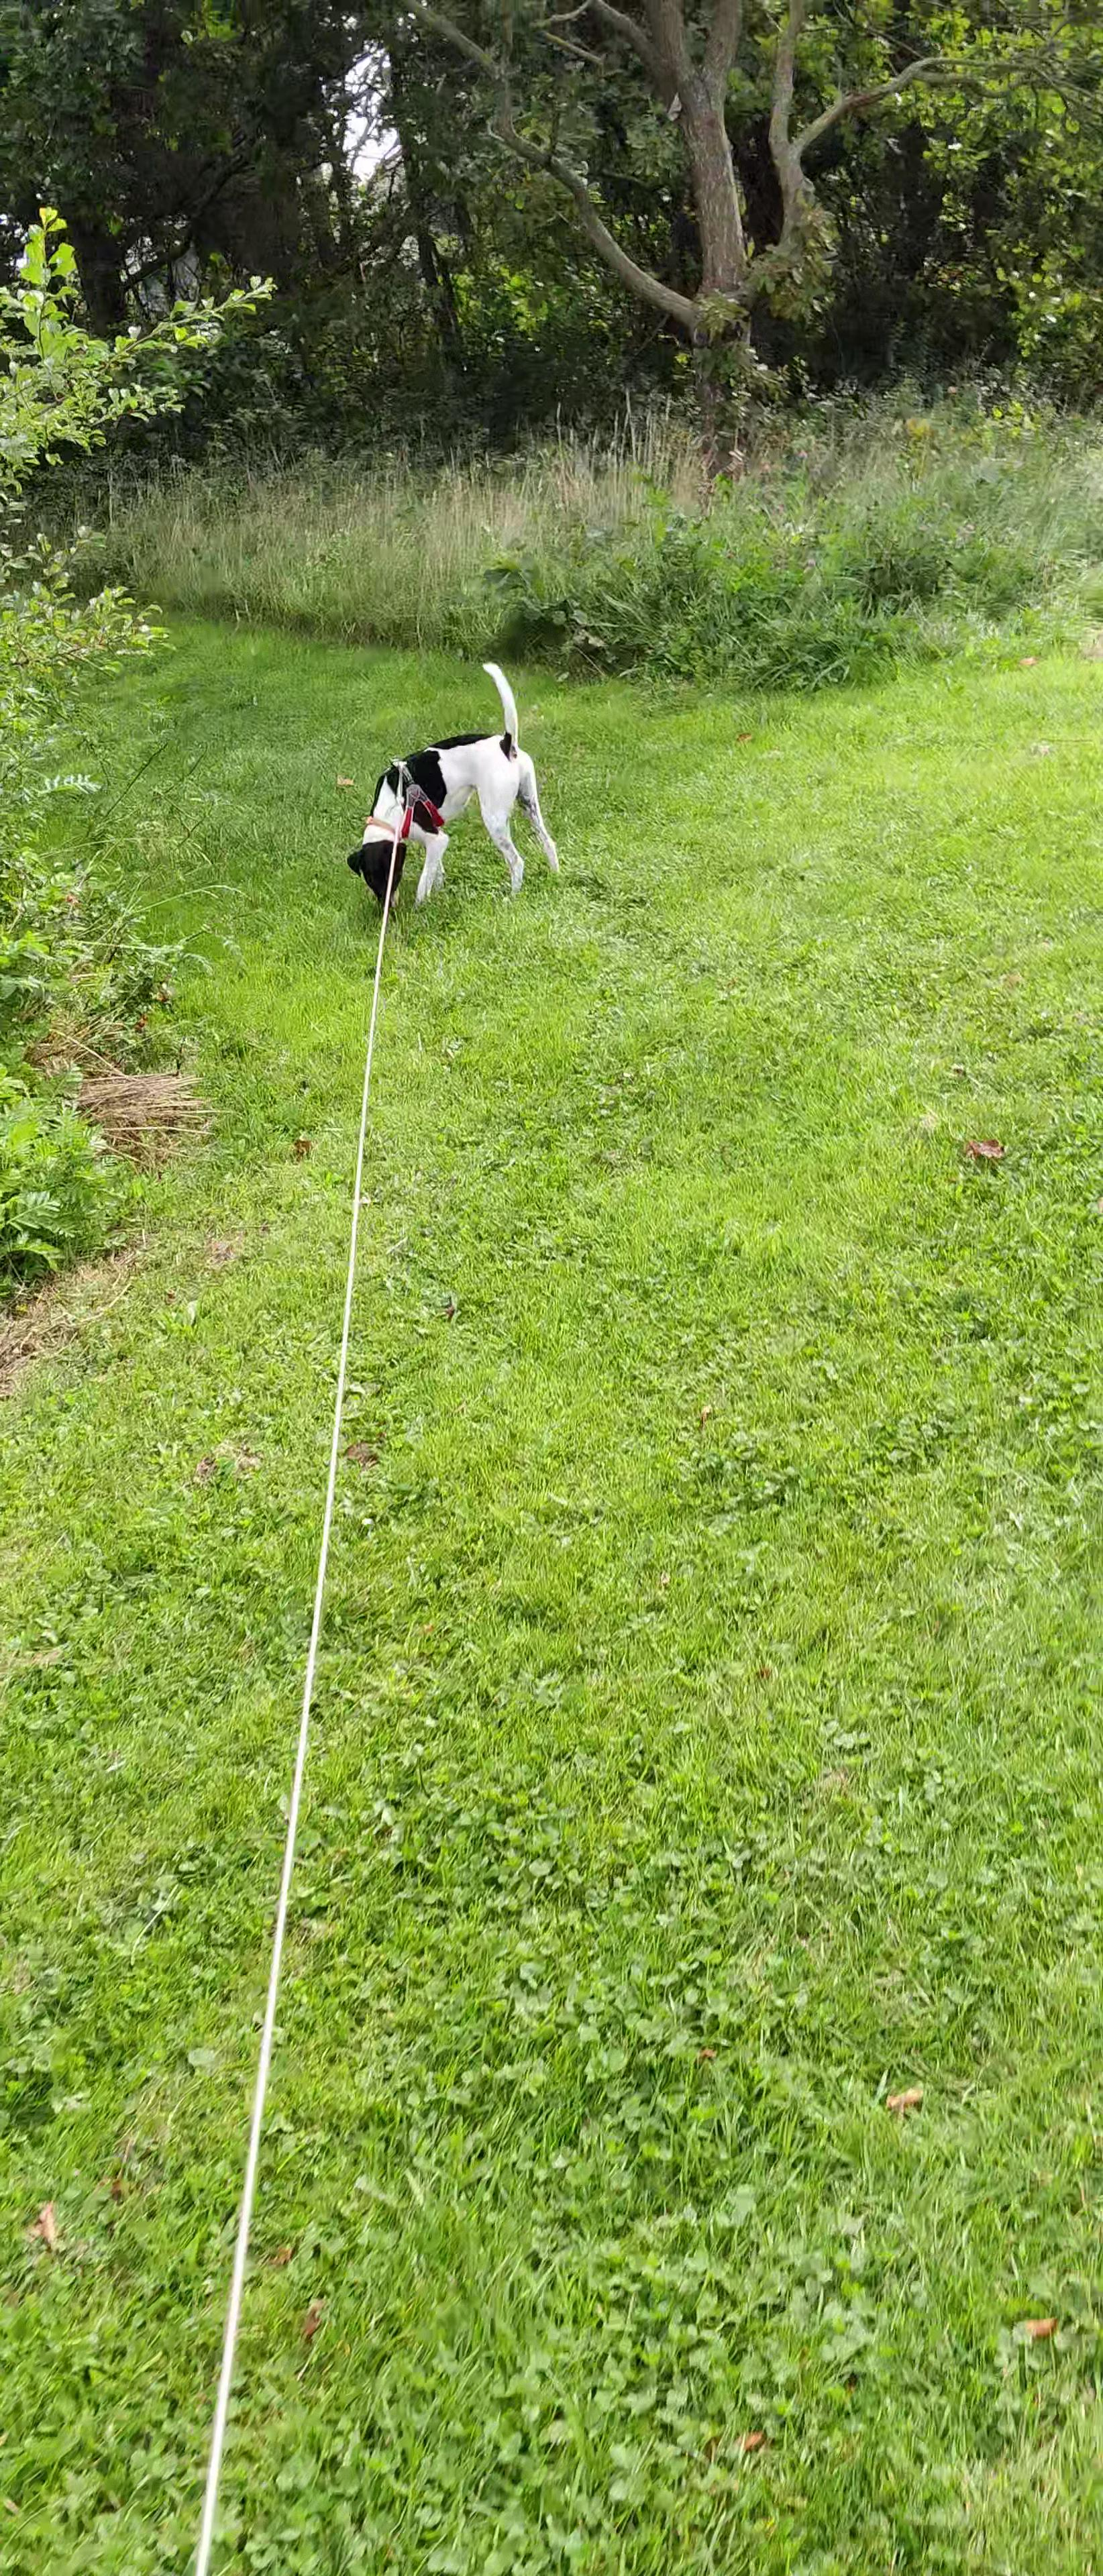Dog: (340, 649, 595, 941)
